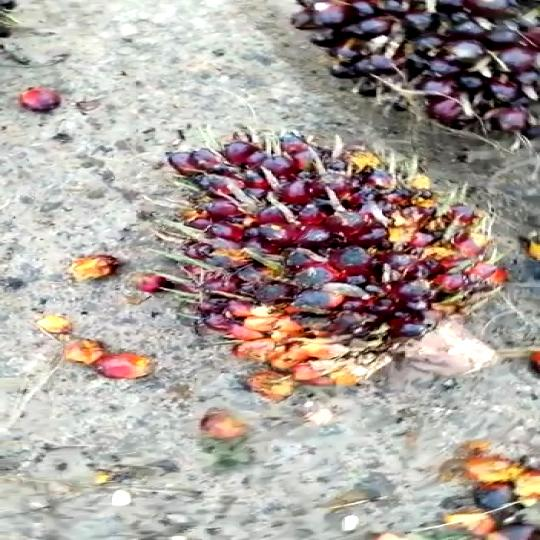masak: (136, 134, 517, 403)
